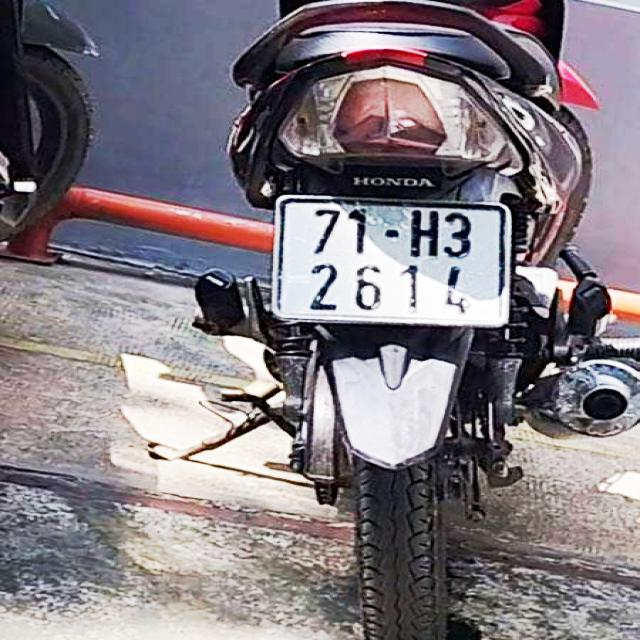license_plate: (281, 199, 511, 324)
